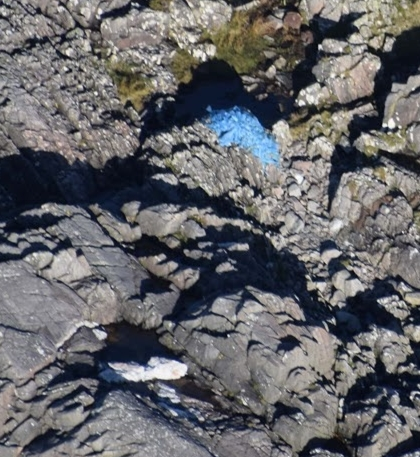net: (86, 341, 195, 398), (199, 101, 285, 171)
